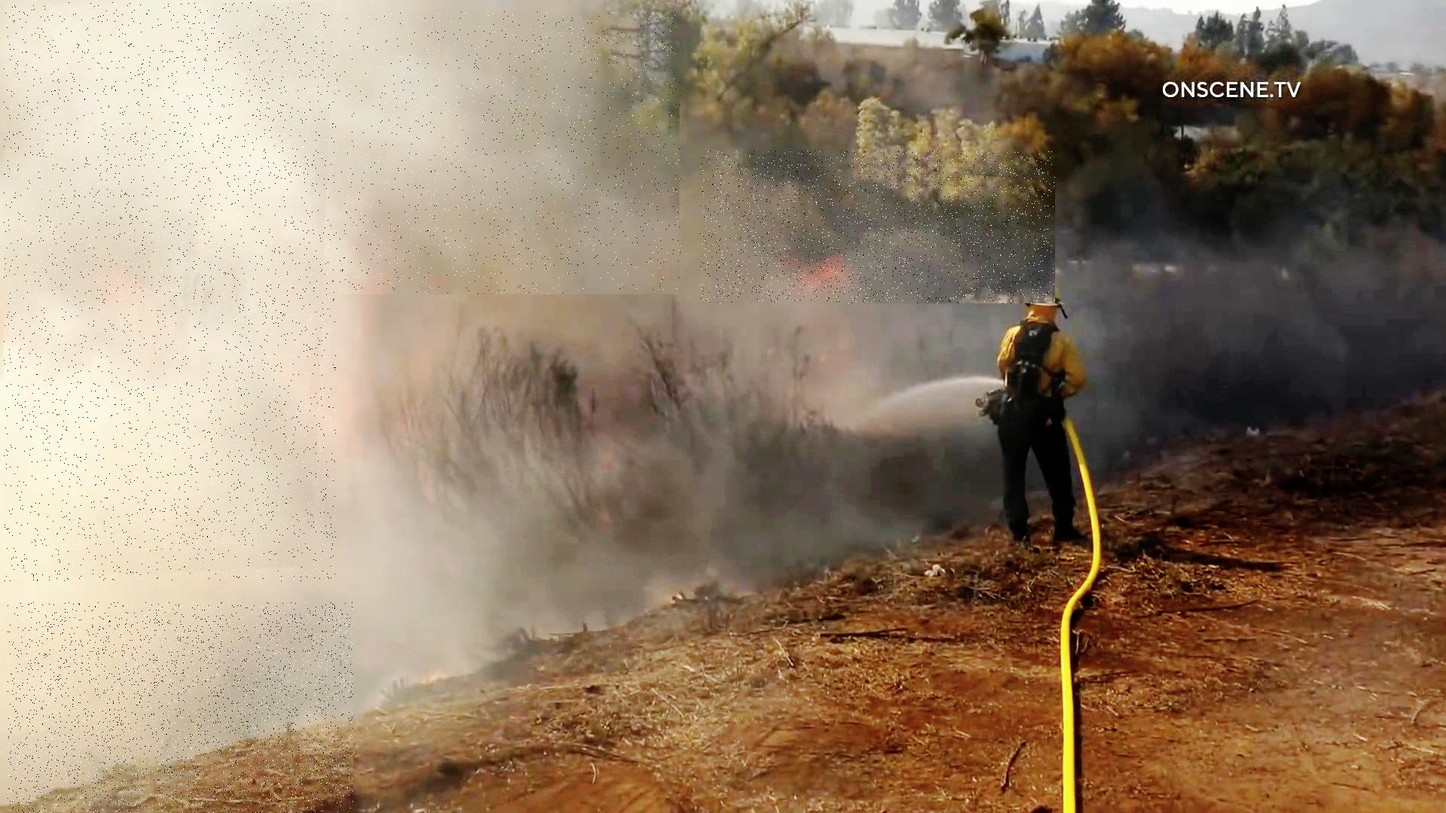smoke: (4, 2, 337, 581), (313, 11, 681, 294), (8, 602, 353, 813), (701, 151, 1055, 303)
